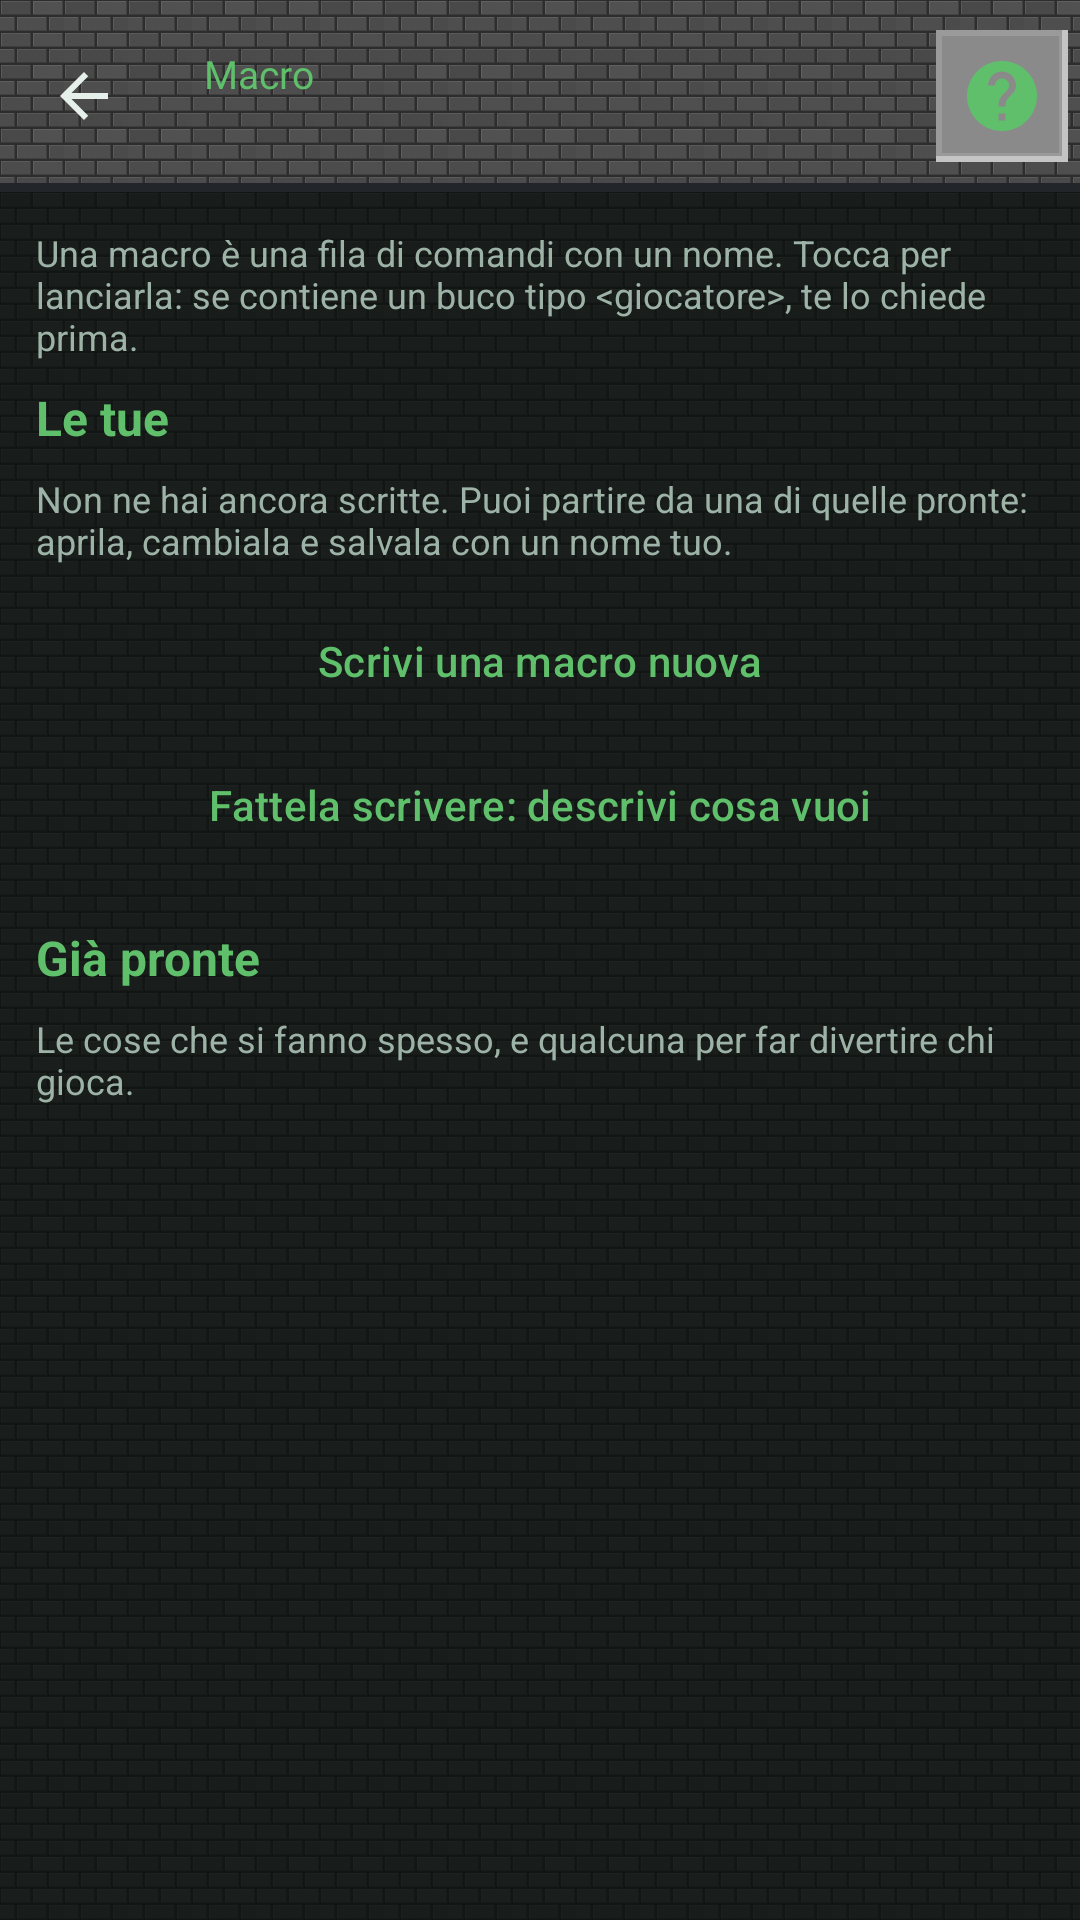

Point at icon controls on the screen. Image size 1080x1920, points as (x,y).
Aiuto su questa pagina: (1002,96)
